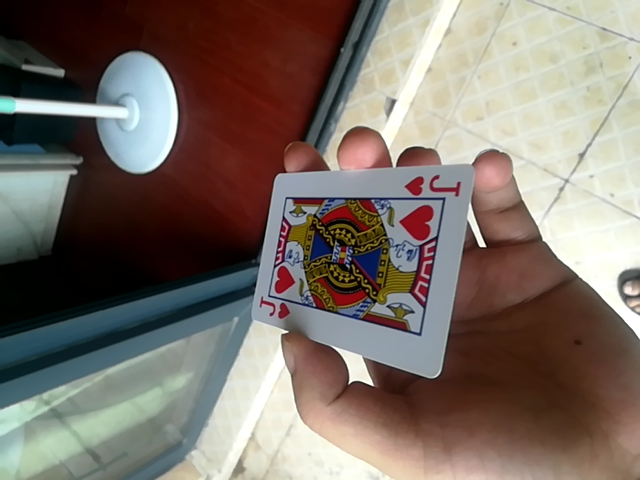hx j: (249, 163, 467, 377)
